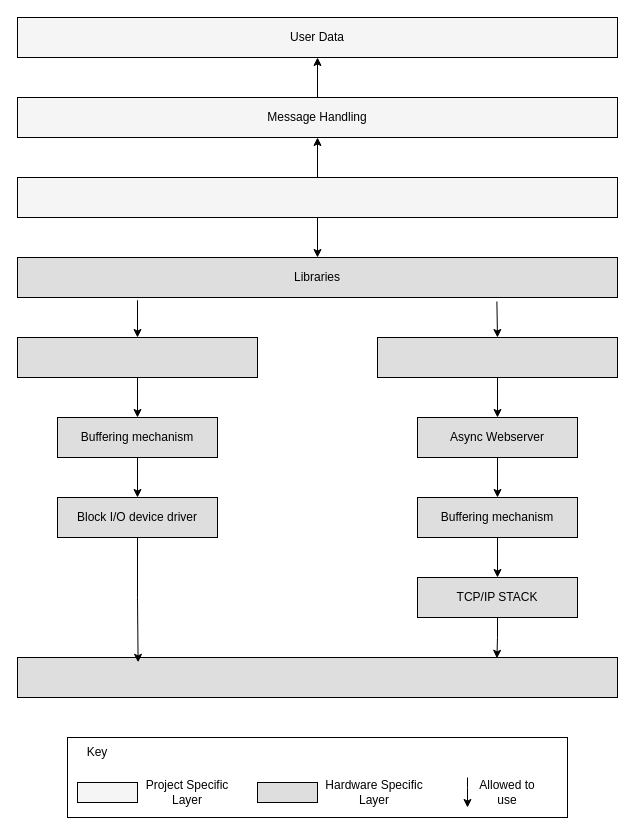
Image size: 635x835. Some labels were removed from this diagram. Here are the shapes that lost their labels. From the top down, the box of each, then its label:
(16, 176, 618, 218): Connection Handling
(16, 336, 258, 378): File-System
(376, 336, 618, 378): Websocket
(16, 656, 618, 698): Hardware Control
